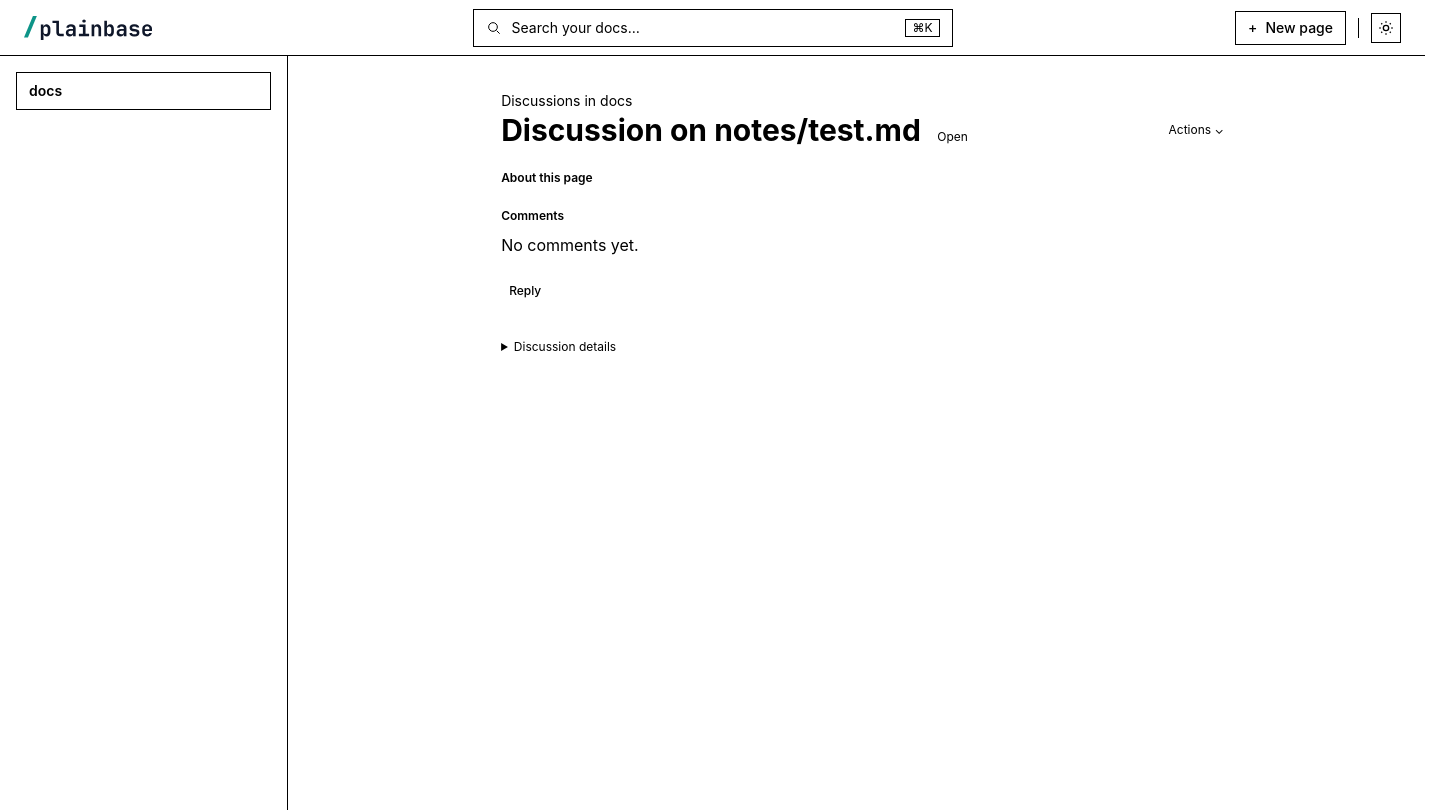
settles a denied reply and one successful retry under StrictMode
Click the button "Reply" at {"x": 525, "y": 292}, box [501,279,549,304]
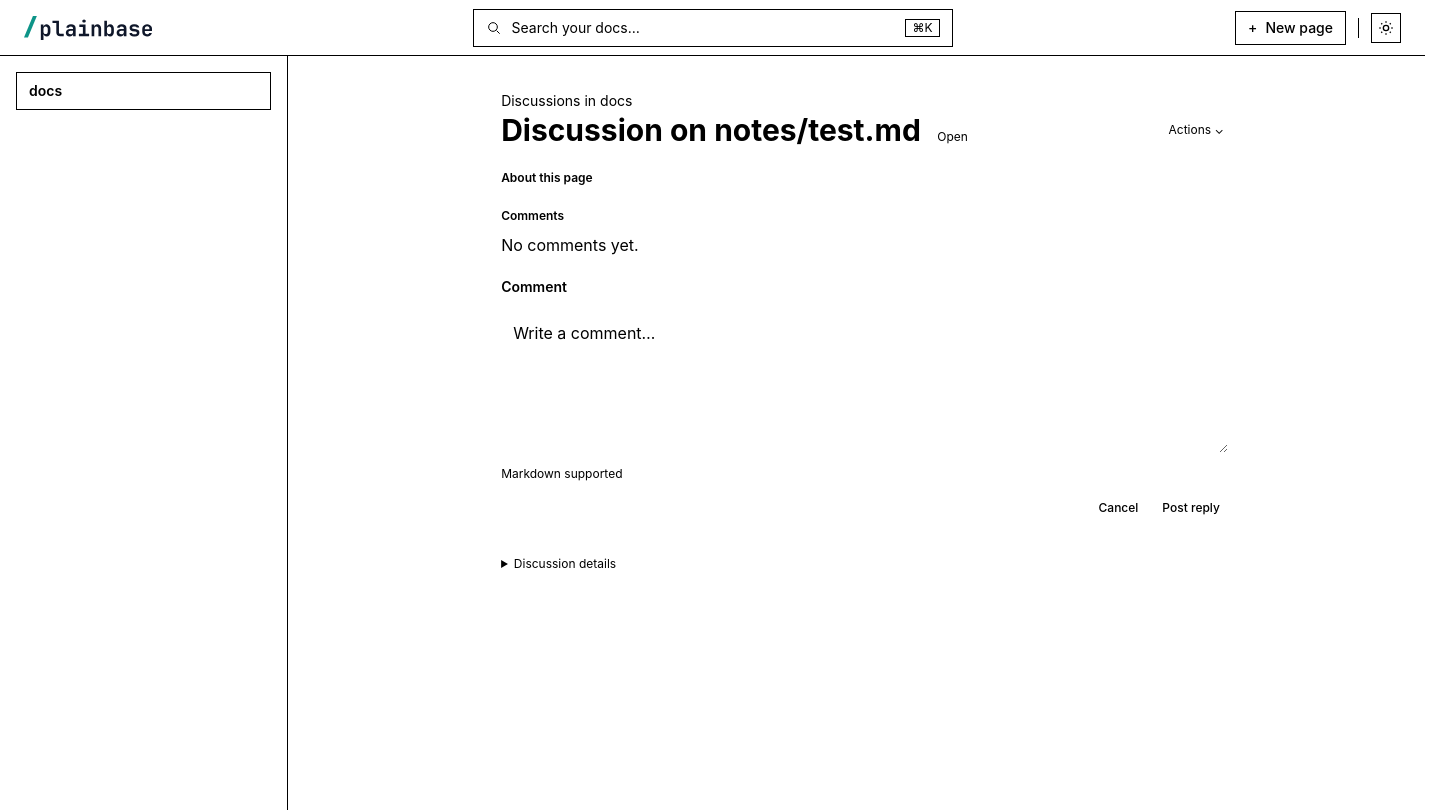
Type "Strict reply" into the text box labelled "Comment" at {"x": 864, "y": 381}, box [501,309,1228,453]
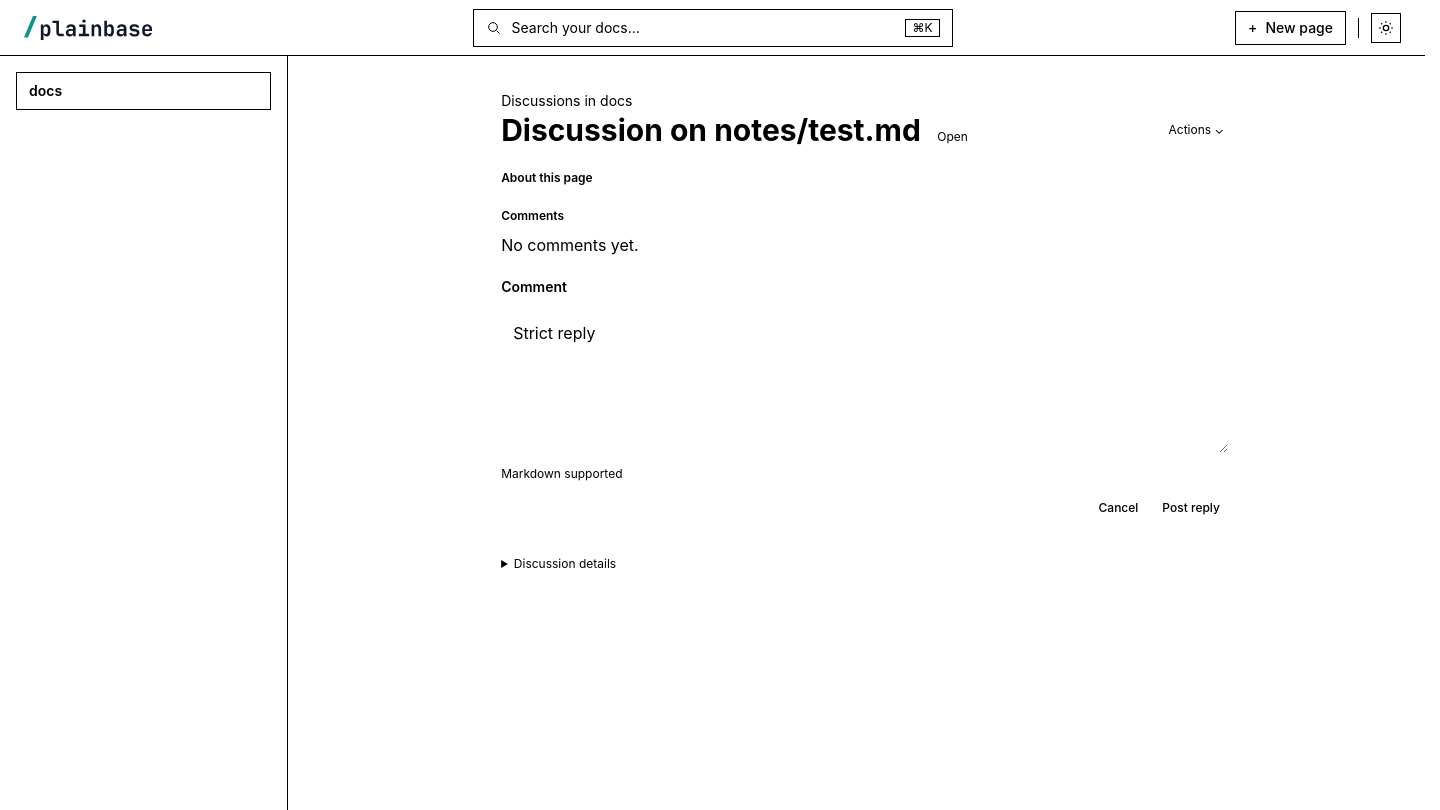
Click the button "Post reply" at {"x": 1191, "y": 508}, box [1154,496,1228,521]
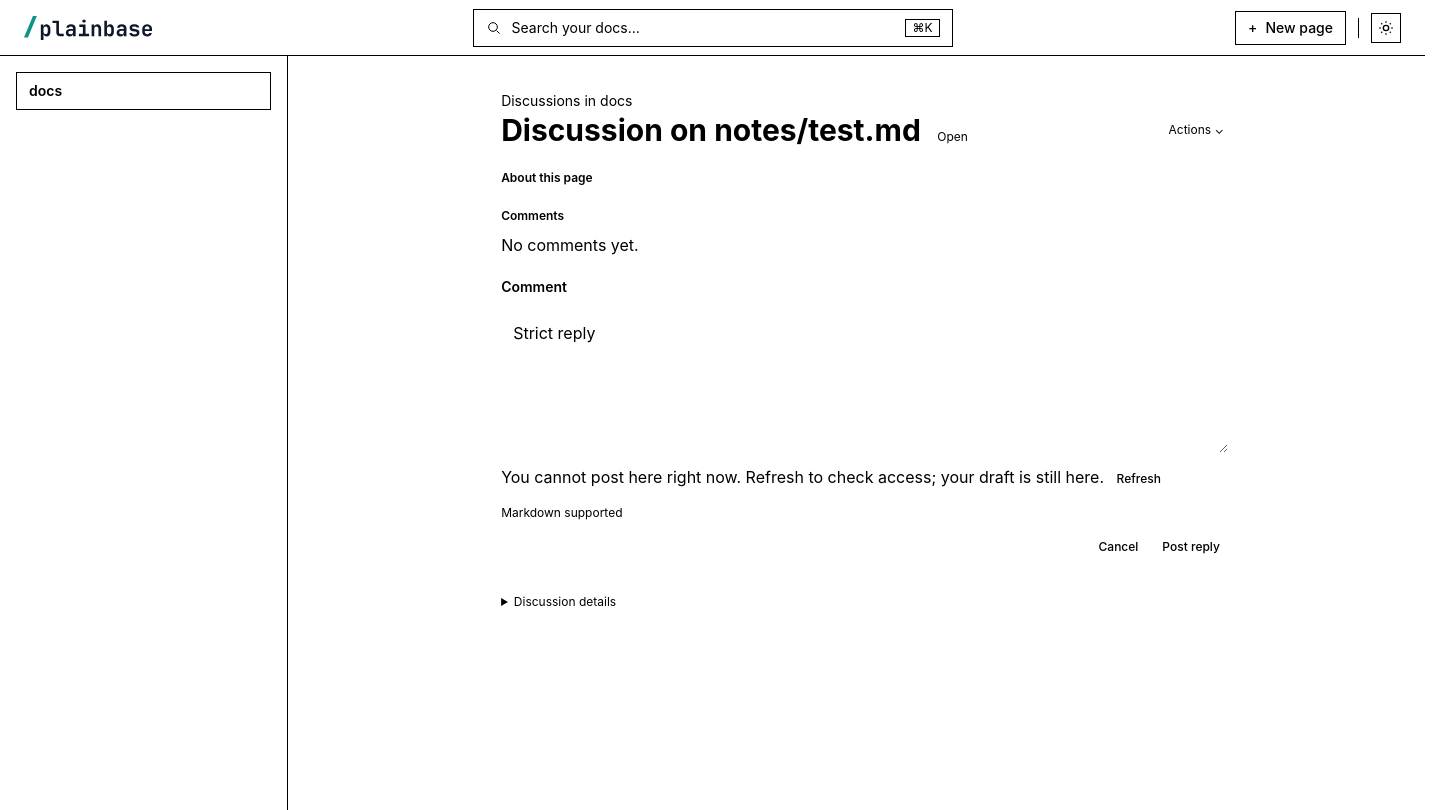
Expected: the text "You cannot post here" is shown, [501,467,1104,487]
Click the button "Post reply" at {"x": 1191, "y": 547}, box [1154,535,1228,559]
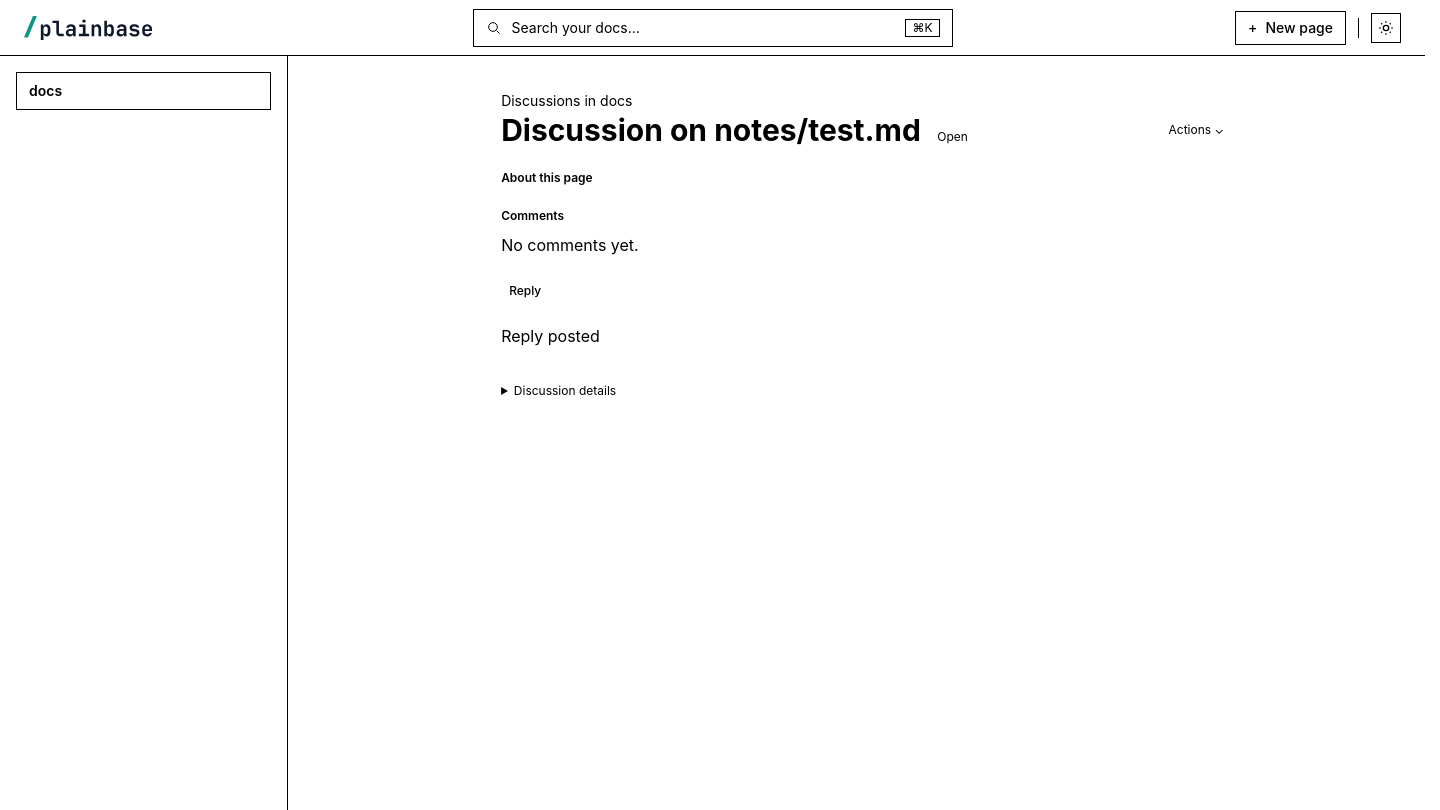
Expected: the message "Reply posted" is shown, [501,326,600,346]
Click the button "Reply" at {"x": 525, "y": 292}, box [501,279,549,304]
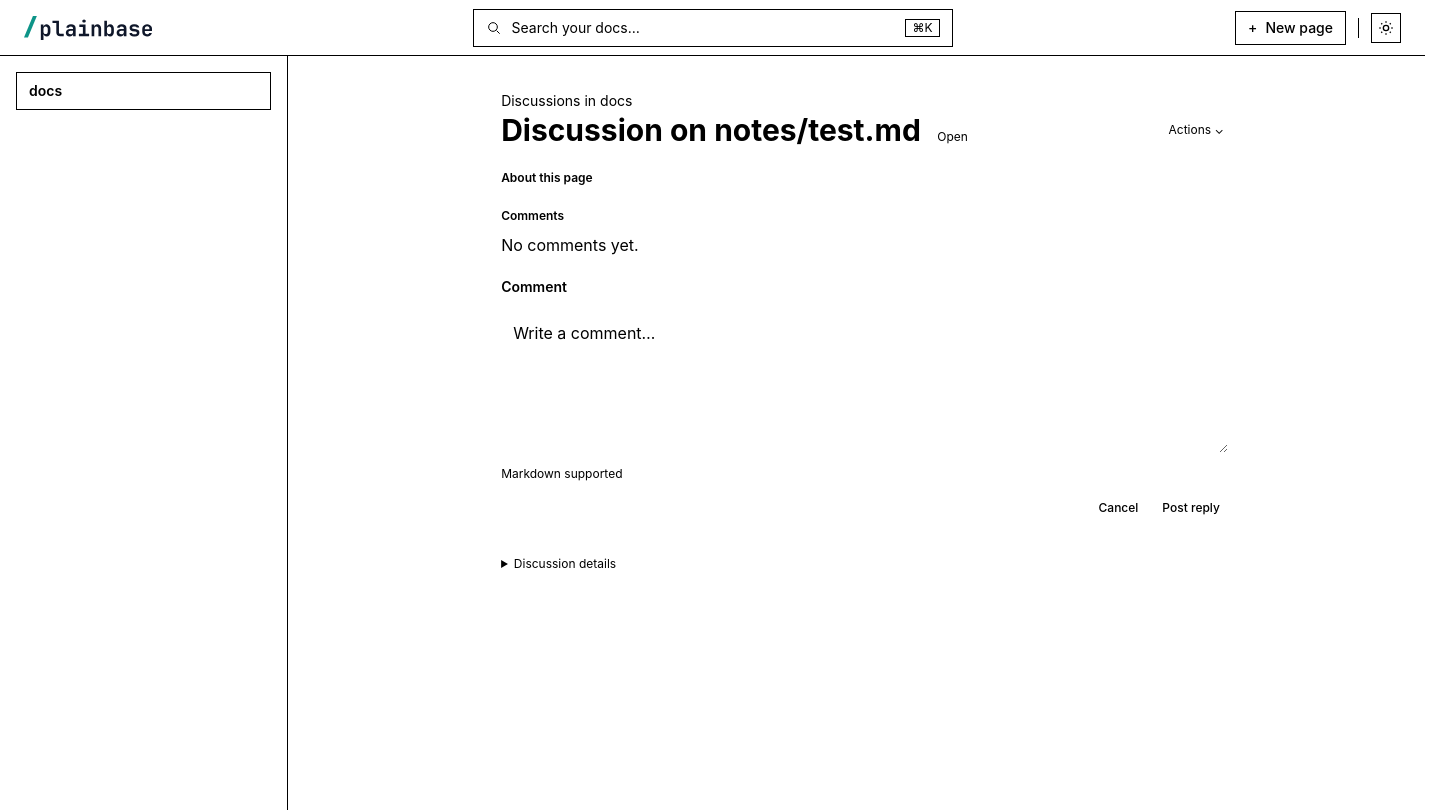
Expected: the message "Reply posted" is gone
Expected: the text box labelled "Comment" is empty, [501,309,1228,453]
